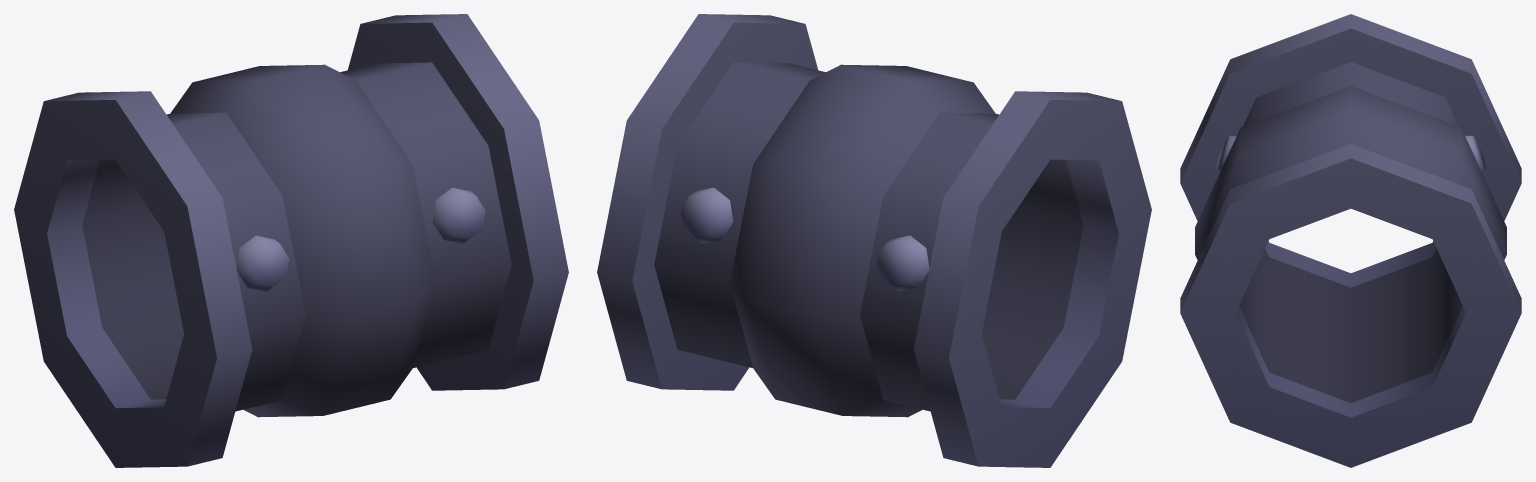
File: pipe-large-bump.glb
3 renders of one model, left to right at view 1: azimuth 30°, elevation 25°; view 2: azimuth 150°, elevation 25°; view 3: azimuth 270°, elevation 25°, orthographic. The views are drawn at different scales.
Parts seen in each view (by area): view 1: pipe-large-bump; view 2: pipe-large-bump; view 3: pipe-large-bump.
Part boxes in pixels (x1,y1,x2,y2): pipe-large-bump: (14, 14, 568, 467); pipe-large-bump: (597, 14, 1151, 467); pipe-large-bump: (1180, 14, 1521, 467).
Bounding box in the file's own units: 1 × 1 × 1.
